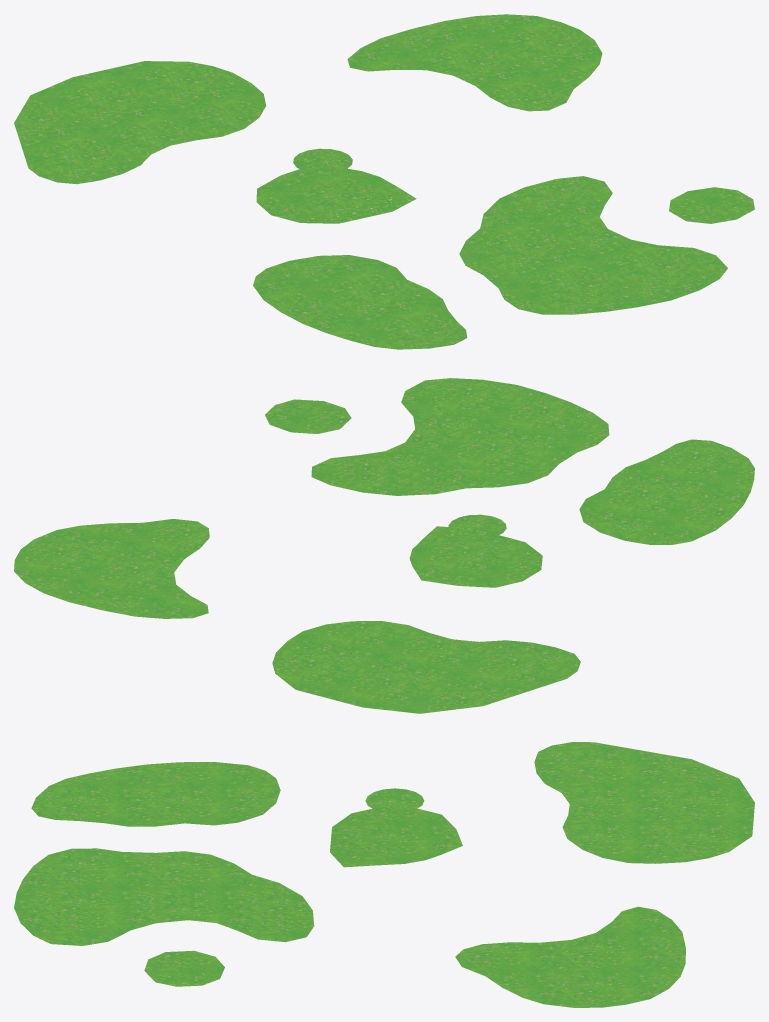
File: zhucheng_gongyuan04cao.FBX
3 views of the same model, one above another, from view 1: azimuth 30°, elevation 25°; view 2: azimuth 150°, elevation 25°; view 3: azimuth 270°, elevation 25° (orthographic). The views are drawn at different scales.
Visible parts, largest first — view 1: zhucheng_gongyuan04cao; view 2: zhucheng_gongyuan04cao; view 3: zhucheng_gongyuan04cao.
Boxes of the visible parts, left/top/right/bottom form: zhucheng_gongyuan04cao: left=14, top=14, right=754, bottom=349; zhucheng_gongyuan04cao: left=14, top=378, right=754, bottom=713; zhucheng_gongyuan04cao: left=14, top=742, right=754, bottom=1007.
Bounding box in the file's own units: 3051 × 183 × 3593.
